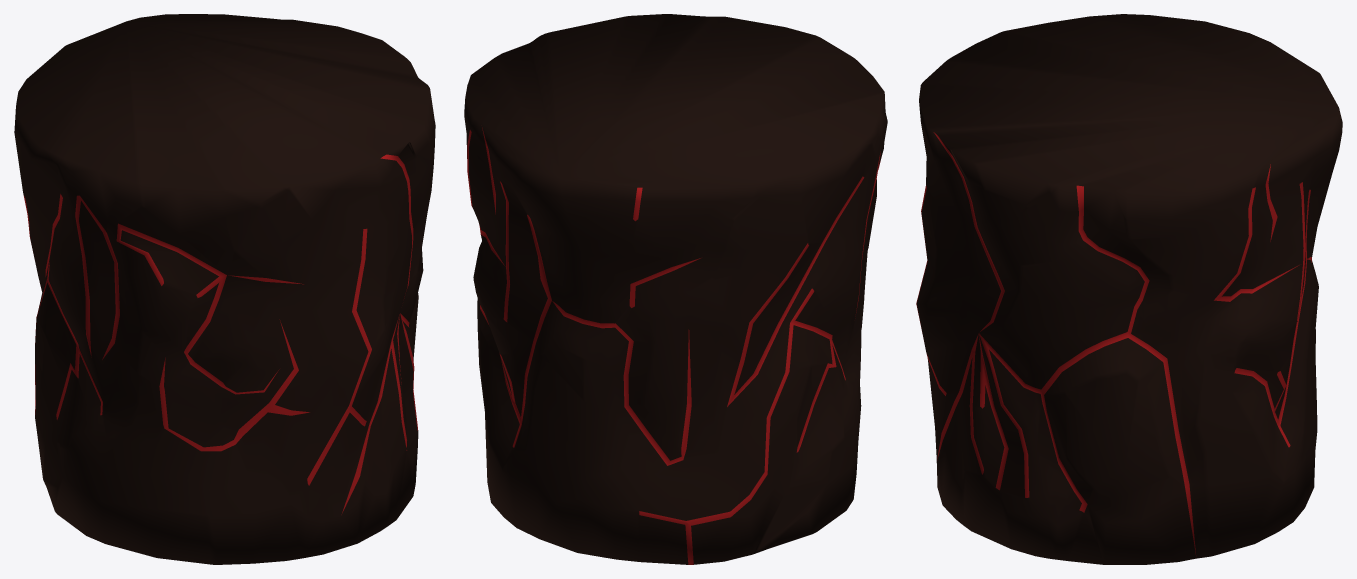
Rendered from Hell_6_2.fbx.
The picture shows the model from 3 angles, left to right: view 1: azimuth 30°, elevation 25°; view 2: azimuth 150°, elevation 25°; view 3: azimuth 270°, elevation 25°; orthographic projection.
Visible parts, largest first — view 1: Rock_6_2; view 2: Rock_6_2; view 3: Rock_6_2.
Boxes of the visible parts, <box> form: Rock_6_2: <box>14,14,435,564</box>; Rock_6_2: <box>464,14,887,564</box>; Rock_6_2: <box>916,14,1342,564</box>.
Size of the model in its own units: 1505 by 1499 by 1515.
